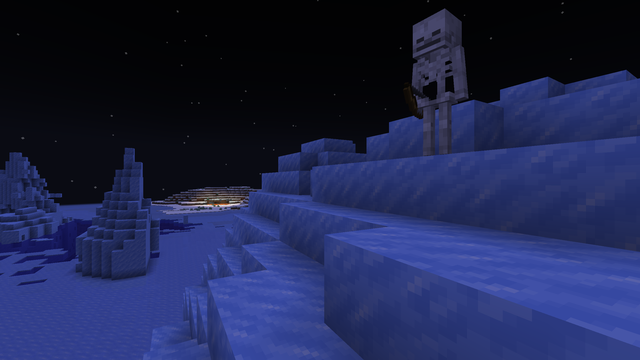squelettes: (407, 6, 467, 157)
